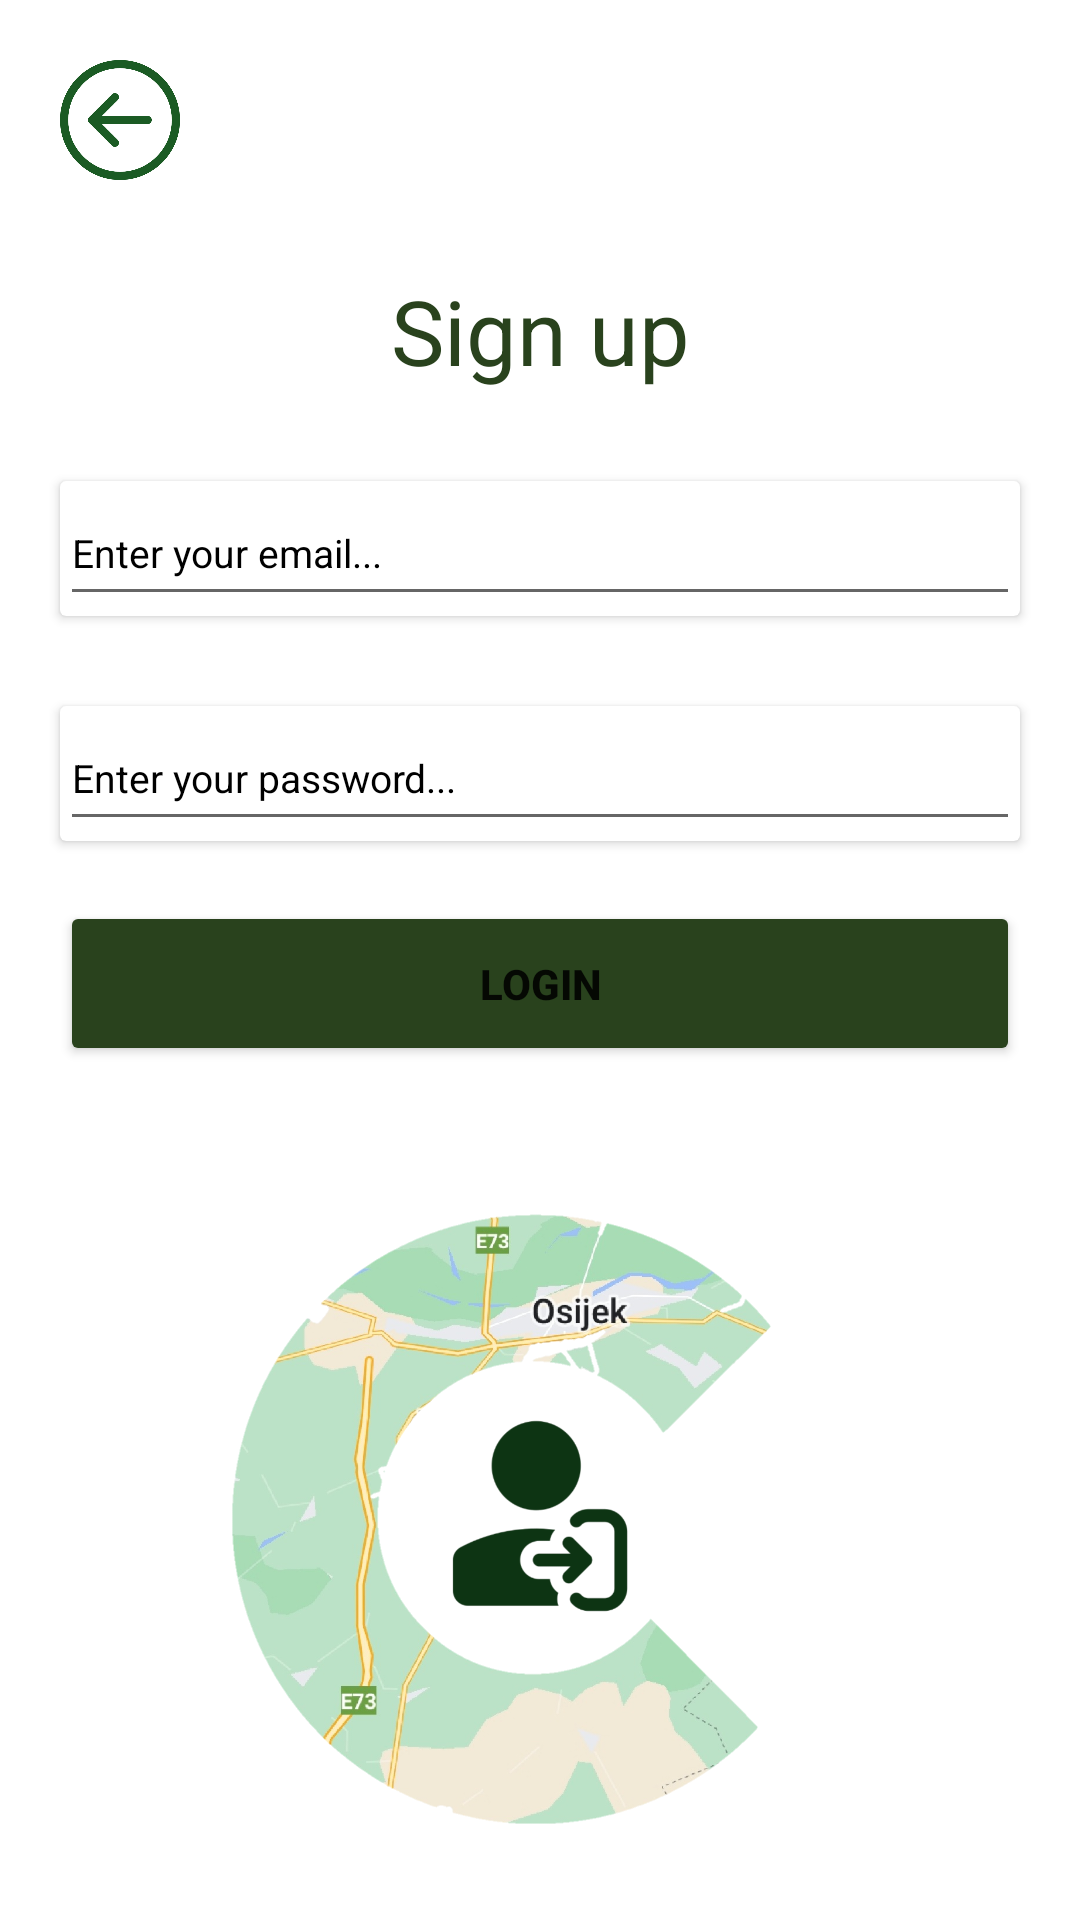

Named icons in this screenshot (1080w x 1920h) and their centers, point (x, y):
arrow back: point (120, 120)
